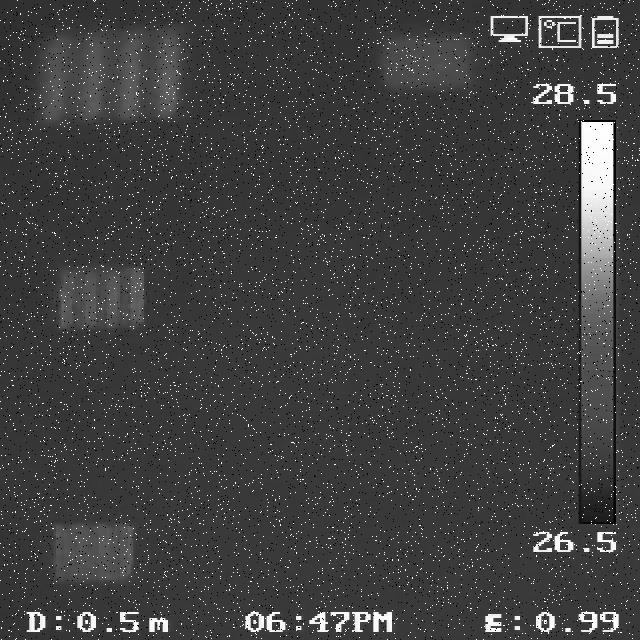Distinguishable 4-bar target: (39, 18, 193, 128), (53, 259, 148, 330), (52, 518, 137, 585)
Indistinguishable 4-bar target: (380, 25, 483, 99)
